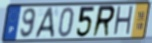0: (57, 6, 76, 39)
5: (75, 6, 97, 39)
9: (20, 7, 37, 39)
A: (33, 6, 55, 39)
H: (112, 5, 134, 38)
R: (91, 4, 117, 39)
